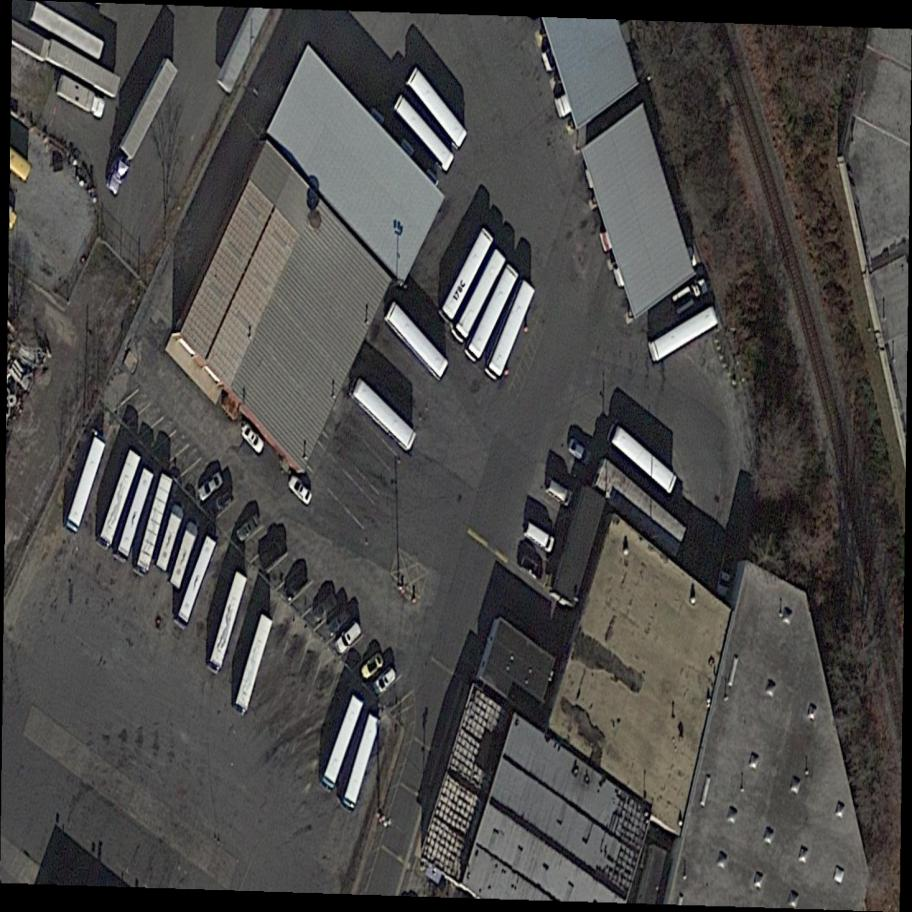large-vehicle: (101, 58, 182, 197), (399, 64, 475, 157), (377, 300, 456, 383), (601, 421, 684, 495), (343, 376, 421, 453), (463, 264, 521, 366), (482, 279, 538, 384), (388, 94, 461, 174), (449, 249, 509, 346), (438, 227, 498, 323), (205, 569, 250, 677), (98, 449, 143, 554), (644, 306, 723, 365), (320, 693, 366, 794), (233, 612, 276, 715), (339, 713, 383, 813), (64, 436, 108, 535), (175, 535, 220, 630), (114, 466, 156, 564), (135, 474, 173, 577), (51, 73, 113, 120), (168, 522, 201, 592), (155, 505, 187, 574)
small-vehicle: (666, 272, 717, 319), (317, 603, 358, 640), (329, 618, 368, 656), (281, 471, 318, 510), (201, 486, 241, 522), (352, 647, 391, 683), (234, 420, 271, 457), (253, 536, 292, 571), (518, 522, 560, 554), (512, 549, 550, 584), (561, 436, 601, 469), (367, 662, 404, 697), (306, 591, 343, 626), (539, 475, 578, 508), (192, 469, 228, 503), (231, 511, 267, 544), (279, 570, 314, 603)
